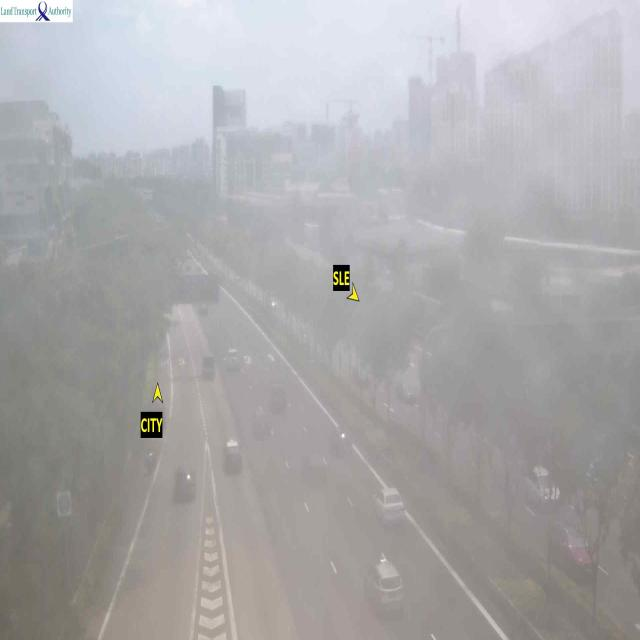vehicles: (373, 487, 409, 530), (173, 464, 203, 504), (367, 564, 396, 602), (223, 439, 247, 477), (332, 431, 352, 455)
